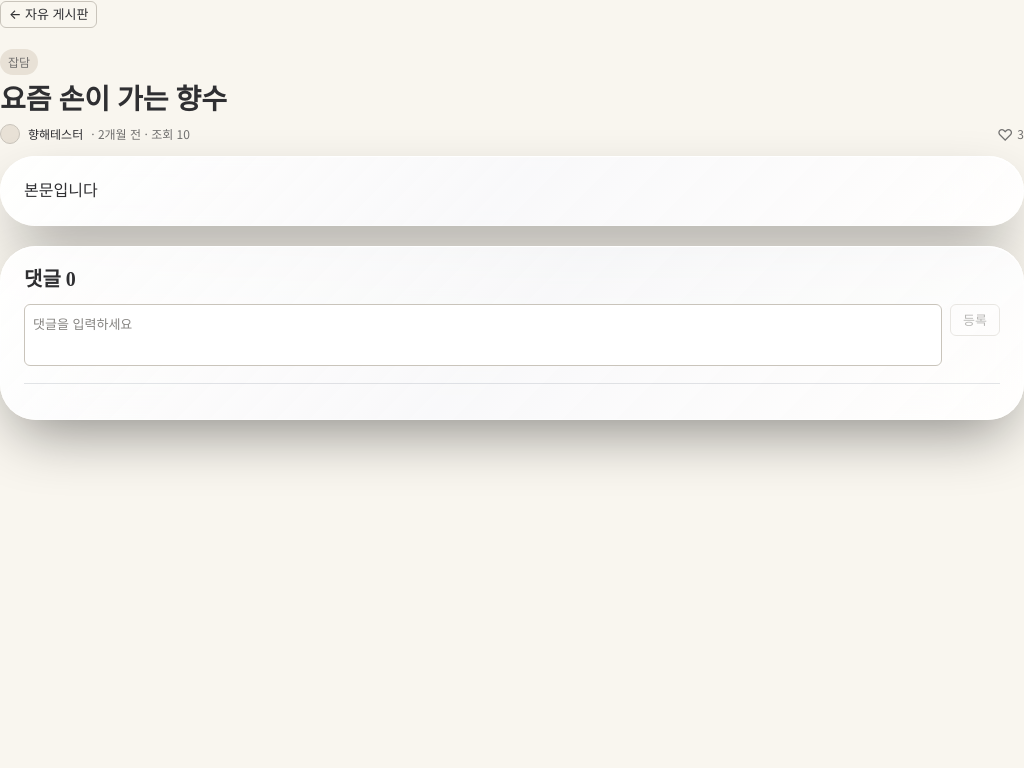
Test case: PostDetailPage 좋아요 › 비로그인으로 누르면 서버에 보내지 않고 로그인 안내를 띄운다
Step 1. Click the button named "좋아요" → click(1010, 134), box [997,125,1023,143]
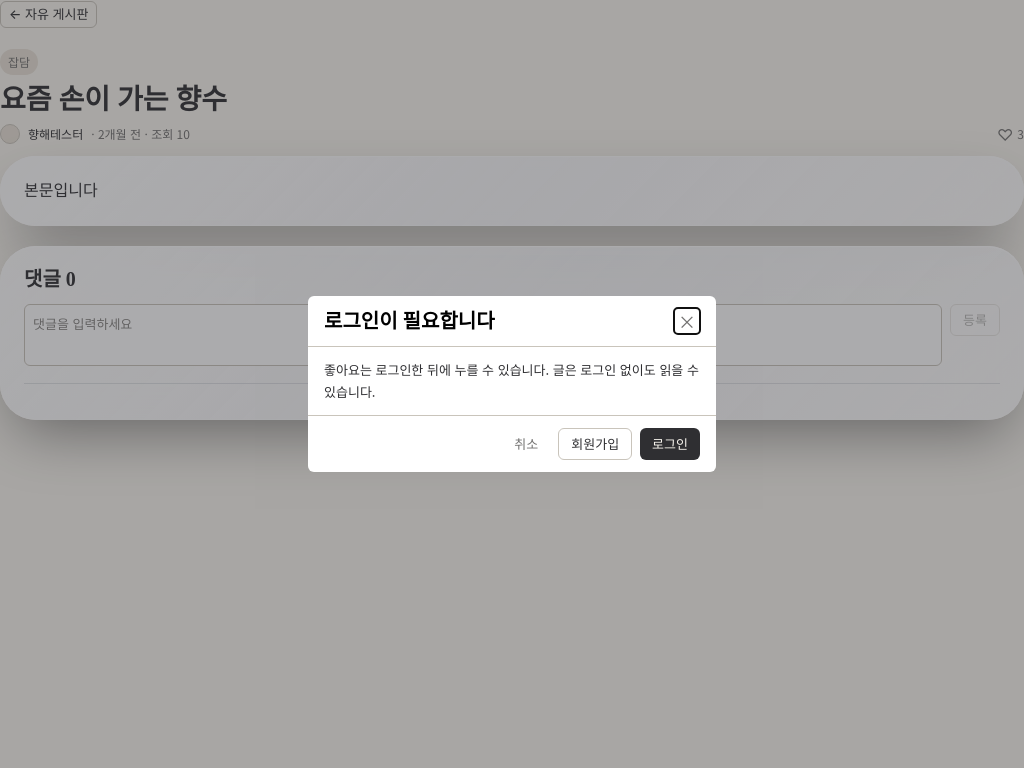
Expected: the text "좋아요는 로그인한 뒤에 누를 수 있습니다. 글은 로그인 없이도 읽을 수 있습니다." is shown, [324,359,700,403]
